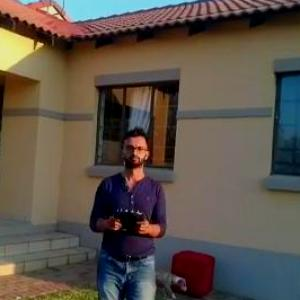follow: (82, 119, 174, 299)
null: (152, 262, 191, 299)
